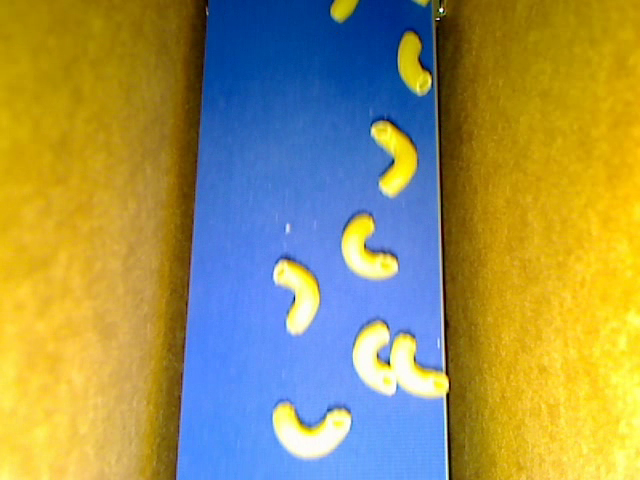elbow: (272, 400, 352, 460), (369, 118, 418, 200), (340, 212, 399, 279), (271, 259, 321, 338), (391, 332, 449, 396), (352, 320, 397, 398), (397, 31, 432, 96), (330, 1, 359, 25)
